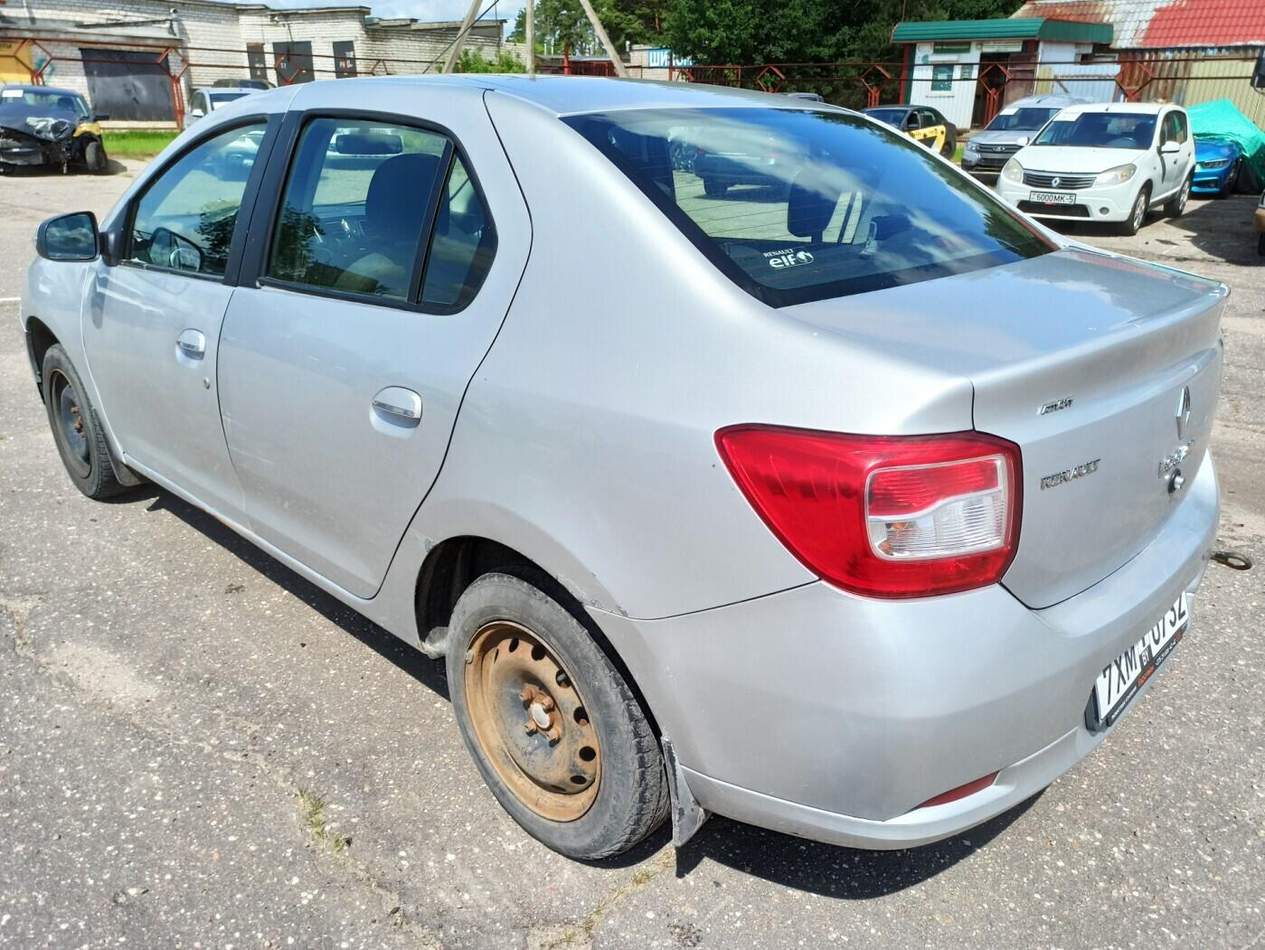Logan_2018: (17, 67, 1234, 890)
